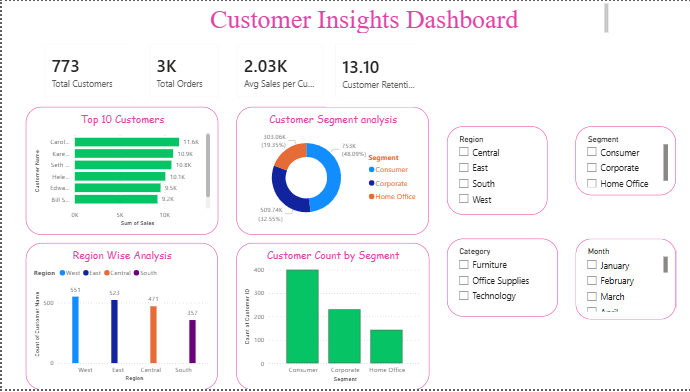

The dashboard page shown, as its layout file describes it:
{"tool":"powerbi","page":{"name":"Customer DB","canvas":[1280,720],"ordinal":2},"visuals":[{"type":"cardVisual","fields":{"Data":["Measure.Total Customers"]},"box":[61.7,63.3,193.3,131.7],"z":0},{"type":"cardVisual","fields":{"Data":["Measure.Total Orders"]},"box":[255,63.3,163.3,131.7],"z":1000},{"type":"cardVisual","fields":{"Data":["Measure.Avg Sales per Customer"]},"box":[418.3,63.3,193.3,131.7],"z":2000},{"type":"clusteredBarChart","title":"Top 10 Customers","fields":{"Category":["Sheet1.Customer Name"],"Y":["Sum(Sheet1.Sales)"]},"box":[43.3,195,356.7,236.7],"z":3000},{"type":"donutChart","title":"Customer Segment analysis","fields":{"Category":["Sheet1.Segment"],"Y":["Sum(Sheet1.Sales)"]},"box":[433.3,195,356.7,236.7],"z":4000},{"type":"clusteredColumnChart","title":"Region Wise Analysis","fields":{"Y":["Count(Sheet1.Customer Name)"],"Category":["Sheet1.Region"],"Series":["Sheet1.Region"]},"box":[44,448,356,272],"z":5000},{"type":"clusteredColumnChart","title":"Customer Count by Segment","fields":{"Y":["Count(Sheet1.Customer ID)"],"Category":["Sheet1.Segment"]},"box":[433,448,357,272],"z":6000},{"type":"cardVisual","fields":{"Data":["Measure.Customer Retention%"]},"box":[600,64,192,132],"z":7000},{"type":"slicer","fields":{"Values":["Sheet1.Region"]},"box":[824,232,186,164],"z":8000},{"type":"slicer","fields":{"Values":["Sheet1.Segment"]},"box":[1062,232,186,128],"z":9000},{"type":"slicer","fields":{"Values":["Sheet1.Category"]},"box":[824,440,206,144],"z":10000},{"type":"slicer","fields":{"Values":["Sheet1.Order Date.Variation.Date Hierarchy.Month"]},"box":[1062,440,186,150],"z":11000},{"type":"textbox","box":[222,0,906,64],"z":12000}]}

Visuals, with their boxes in screenshot pixels (x1, y1, x2, y2), scaled from the page's 1280x720 canvas onto the 690x392 screenshot:
cardVisual - Measure.Total Customers: BBox(33, 34, 137, 106)
cardVisual - Measure.Total Orders: BBox(137, 34, 225, 106)
cardVisual - Measure.Avg Sales per Customer: BBox(225, 34, 330, 106)
"Top 10 Customers" clusteredBarChart: BBox(23, 106, 216, 235)
"Customer Segment analysis" donutChart: BBox(234, 106, 426, 235)
"Region Wise Analysis" clusteredColumnChart: BBox(24, 244, 216, 391)
"Customer Count by Segment" clusteredColumnChart: BBox(233, 244, 426, 391)
cardVisual - Measure.Customer Retention%: BBox(323, 35, 427, 107)
slicer - Sheet1.Region: BBox(444, 126, 544, 216)
slicer - Sheet1.Segment: BBox(572, 126, 673, 196)
slicer - Sheet1.Category: BBox(444, 240, 555, 318)
slicer - Sheet1.Order Date.Variation.Date Hierarchy.Month: BBox(572, 240, 673, 321)
textbox: BBox(120, 0, 608, 35)
